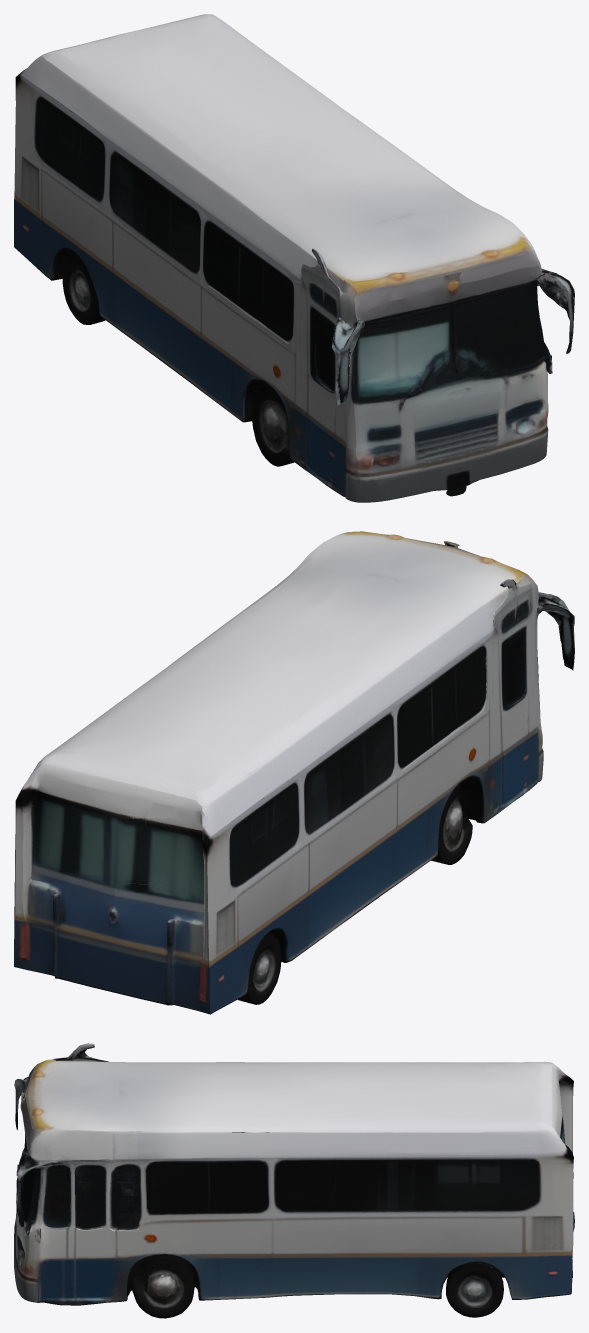
File: city-bus.glb
3 renders of one model, top to bottom at view 1: azimuth 30°, elevation 25°; view 2: azimuth 150°, elevation 25°; view 3: azimuth 270°, elevation 25°, orthographic. The views are drawn at different scales.
Visible parts, largest first — view 1: geometry_0; view 2: geometry_0; view 3: geometry_0.
Part boxes in pixels (box(x1,y1,x2,y2)): geometry_0: box(14, 14, 574, 502); geometry_0: box(14, 531, 574, 1014); geometry_0: box(14, 1043, 574, 1318).
Size of the model in its own units: 0.4006 by 0.3913 by 0.9912.
1 material, 1 textured.
